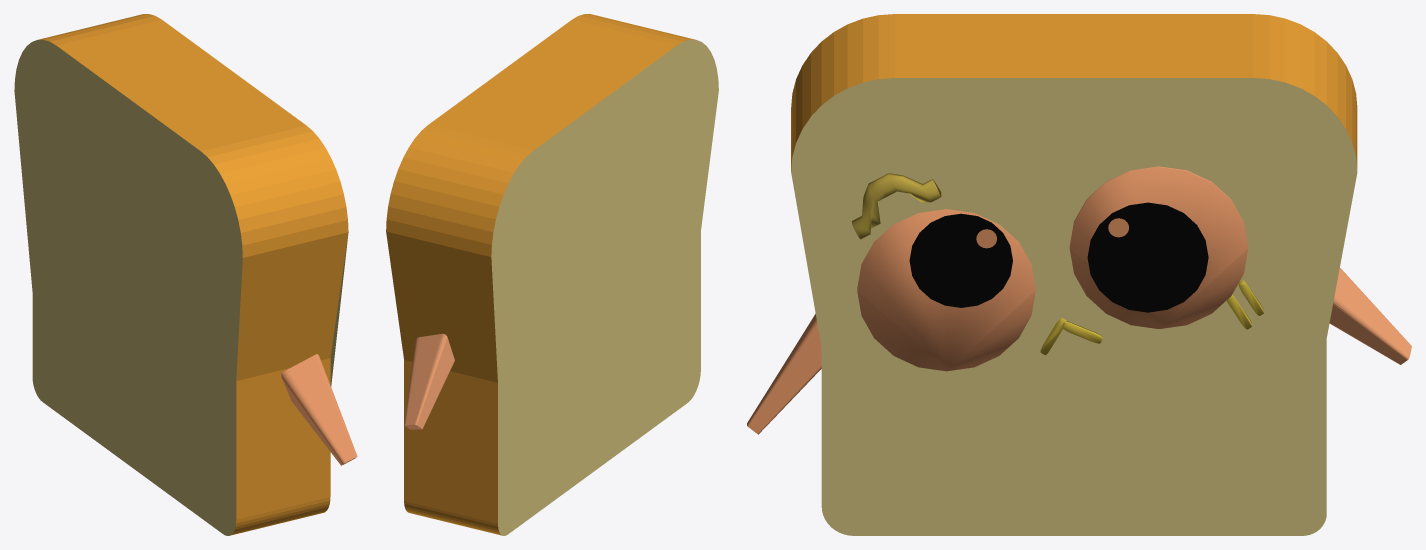
The model's file is bread_bread _frency.fbx.
3 views of the same model, side by side, from view 1: azimuth 30°, elevation 25°; view 2: azimuth 150°, elevation 25°; view 3: azimuth 270°, elevation 25° (orthographic). The views are drawn at different scales.
Parts seen in each view (by area): view 1: Cube.002, Cube.001; view 2: Cube.002, Cube.003; view 3: Cube.002, Cube.007, Cube.017, Cube.008, Cube.009, Cube.003, Cube.001, Cube.013.
Part boxes in pixels (bbox=[...]): Cube.002: bbox=[14, 14, 348, 535]; Cube.001: bbox=[281, 354, 357, 465]; Cube.002: bbox=[386, 14, 718, 535]; Cube.003: bbox=[404, 333, 454, 429]; Cube.002: bbox=[791, 14, 1357, 535]; Cube.007: bbox=[857, 209, 1035, 371]; Cube.017: bbox=[1069, 166, 1248, 328]; Cube.008: bbox=[1087, 202, 1208, 312]; Cube.009: bbox=[909, 213, 1012, 307]; Cube.003: bbox=[1329, 268, 1411, 364]; Cube.001: bbox=[747, 314, 821, 434]; Cube.013: bbox=[852, 173, 941, 239].
Bounding box in the file's own units: 20.97 × 66.06 × 86.27.
